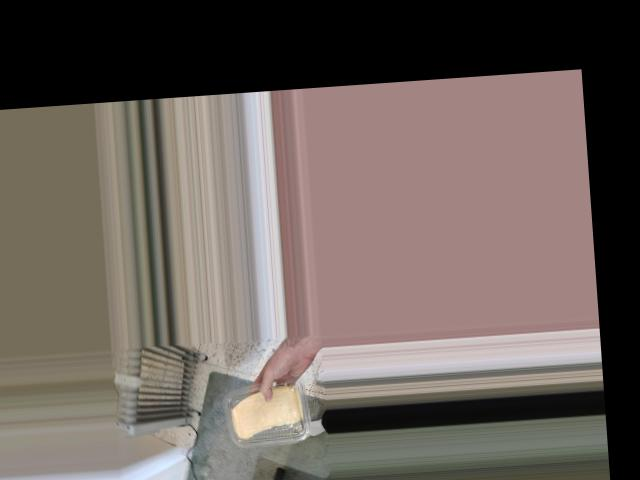cheese: (219, 377, 310, 447)
